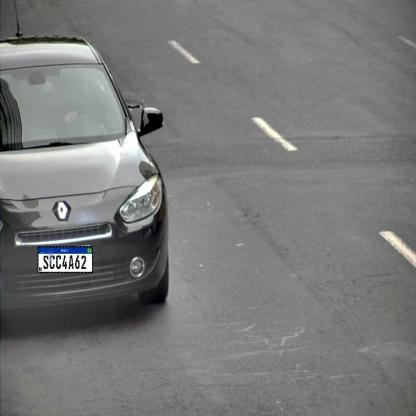PlacaM: (38, 246, 93, 273)
